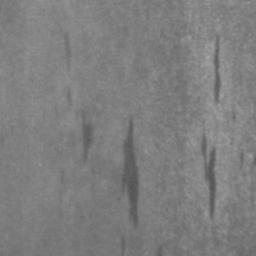Inclusion: (123, 120, 140, 225), (201, 134, 218, 218), (214, 38, 223, 104), (83, 123, 93, 164)
